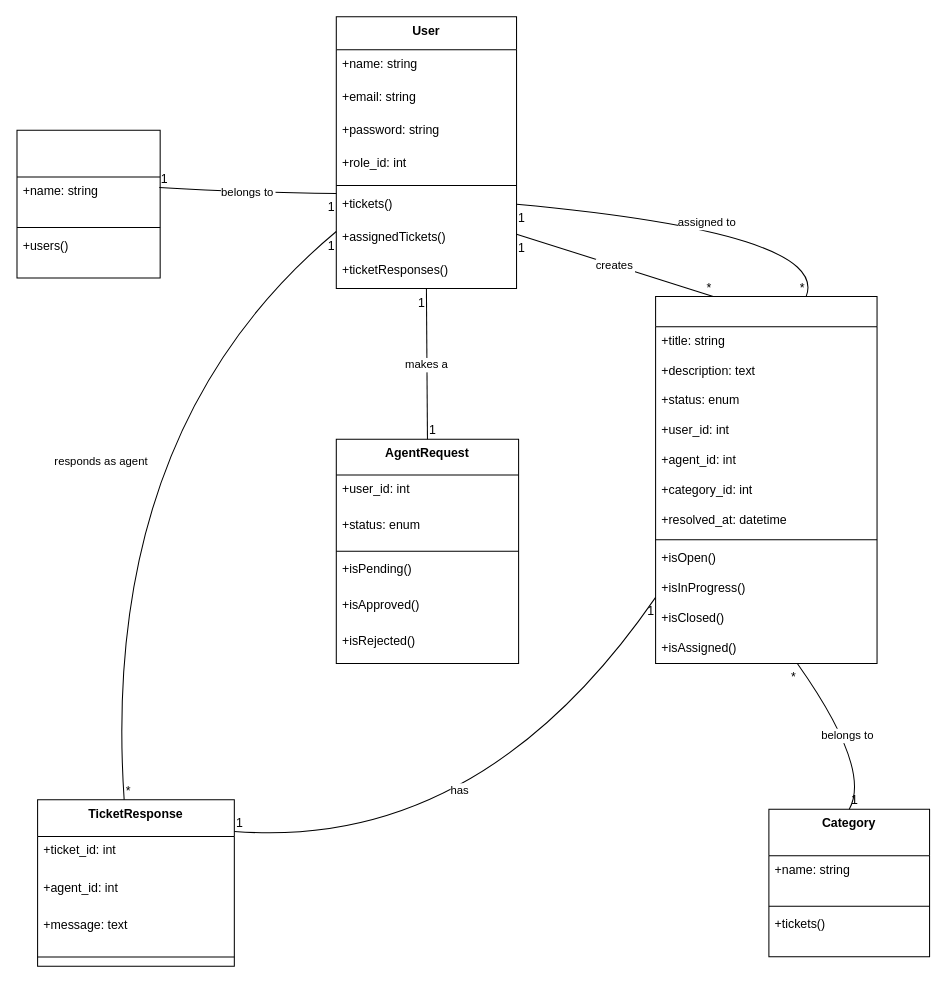
This 947x984 diagram has some shape labels left out. The shapes that lost their labels are listed below. From the top down, each one's box as (x1, y1, x2, y2) in pixels, then its label:
(16, 129, 160, 278): Role
(655, 295, 877, 663): Ticket
